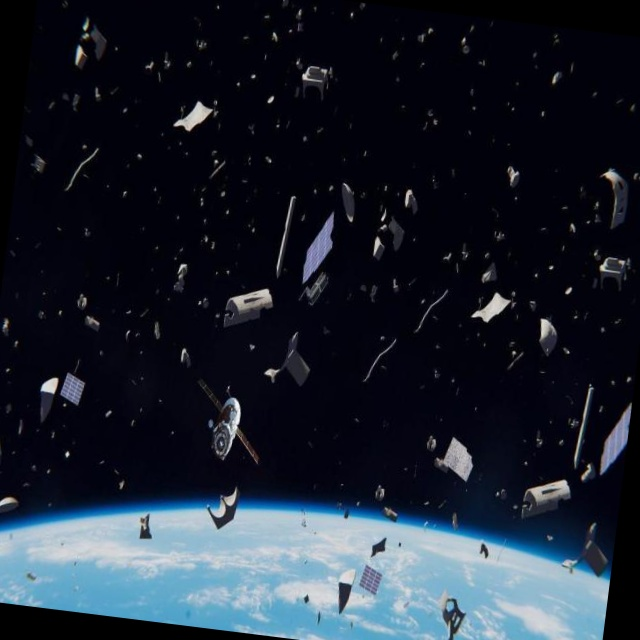large_debris: (260, 0, 308, 50), (143, 49, 173, 87), (120, 307, 138, 346), (21, 460, 39, 491), (460, 23, 476, 54), (423, 109, 439, 133), (297, 509, 311, 535), (31, 152, 46, 176), (418, 26, 434, 44), (194, 34, 209, 52), (73, 581, 85, 598), (197, 295, 209, 311), (120, 101, 130, 118), (266, 92, 278, 105), (261, 154, 274, 166), (0, 532, 3, 581), (328, 66, 338, 80), (140, 306, 149, 320), (506, 100, 516, 112), (359, 282, 369, 294), (5, 400, 13, 415), (247, 122, 256, 135), (478, 55, 487, 68), (392, 48, 400, 62), (593, 248, 601, 261), (553, 34, 560, 48), (434, 368, 441, 380), (569, 62, 575, 75), (300, 211, 306, 224), (346, 291, 353, 302), (540, 222, 547, 233), (360, 190, 367, 200), (136, 152, 143, 162), (380, 363, 387, 372), (435, 343, 442, 352), (561, 203, 568, 212), (467, 127, 473, 137), (363, 148, 369, 158), (328, 183, 334, 193), (359, 3, 366, 11), (276, 118, 281, 129), (470, 87, 475, 98), (251, 72, 257, 81), (540, 109, 546, 118), (312, 187, 318, 196), (451, 168, 456, 178), (317, 125, 323, 133), (420, 61, 426, 69), (304, 556, 308, 567), (380, 335, 386, 342), (513, 503, 519, 510), (286, 119, 290, 129), (533, 51, 538, 59), (384, 185, 389, 193), (414, 464, 417, 477), (243, 35, 249, 41), (302, 135, 307, 142), (236, 81, 241, 88), (472, 106, 477, 113), (350, 12, 354, 20), (424, 500, 429, 505), (404, 466, 408, 471), (264, 54, 267, 60), (314, 6, 317, 12), (524, 460, 527, 466), (539, 476, 543, 480)
